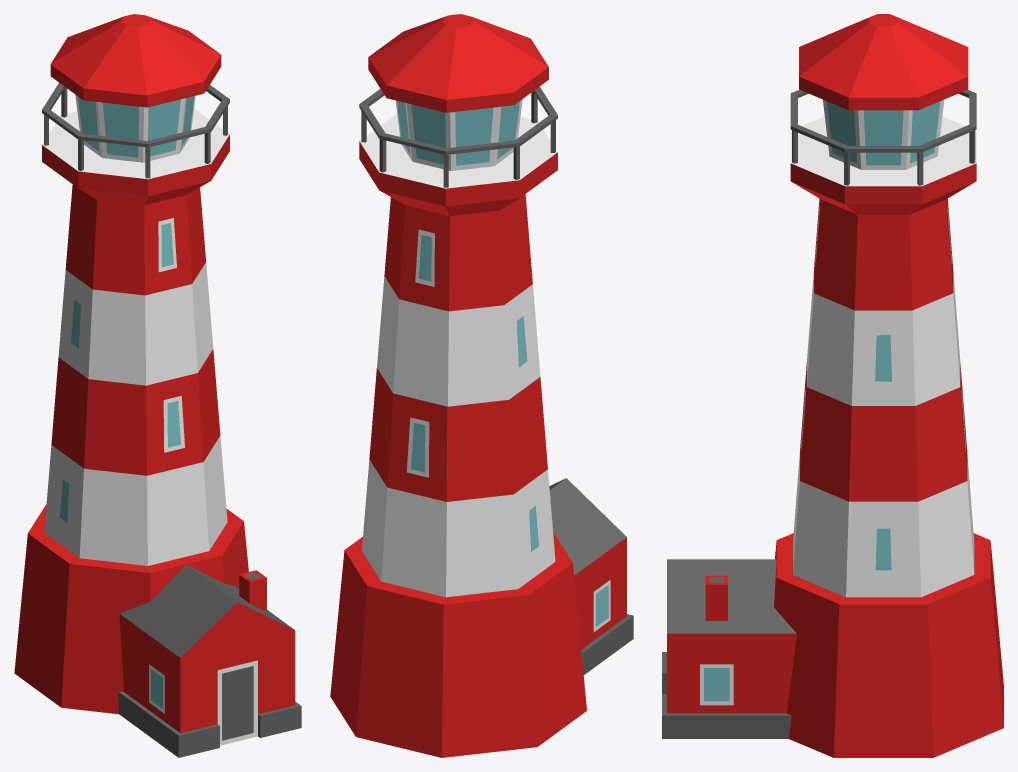
The model's file is lighthouse.obj.
3 views of the same model, side by side, from view 1: azimuth 30°, elevation 25°; view 2: azimuth 150°, elevation 25°; view 3: azimuth 270°, elevation 25° (orthographic). The views are drawn at different scales.
Parts seen in each view (by area): view 1: lighthouse; view 2: lighthouse; view 3: lighthouse.
Boxes of the visible parts, <box> form: lighthouse: <box>14,14,301,757</box>; lighthouse: <box>330,14,633,757</box>; lighthouse: <box>662,14,1003,757</box>.
Size of the model in its own units: 158 by 499 by 225.
1 material, 1 textured.
